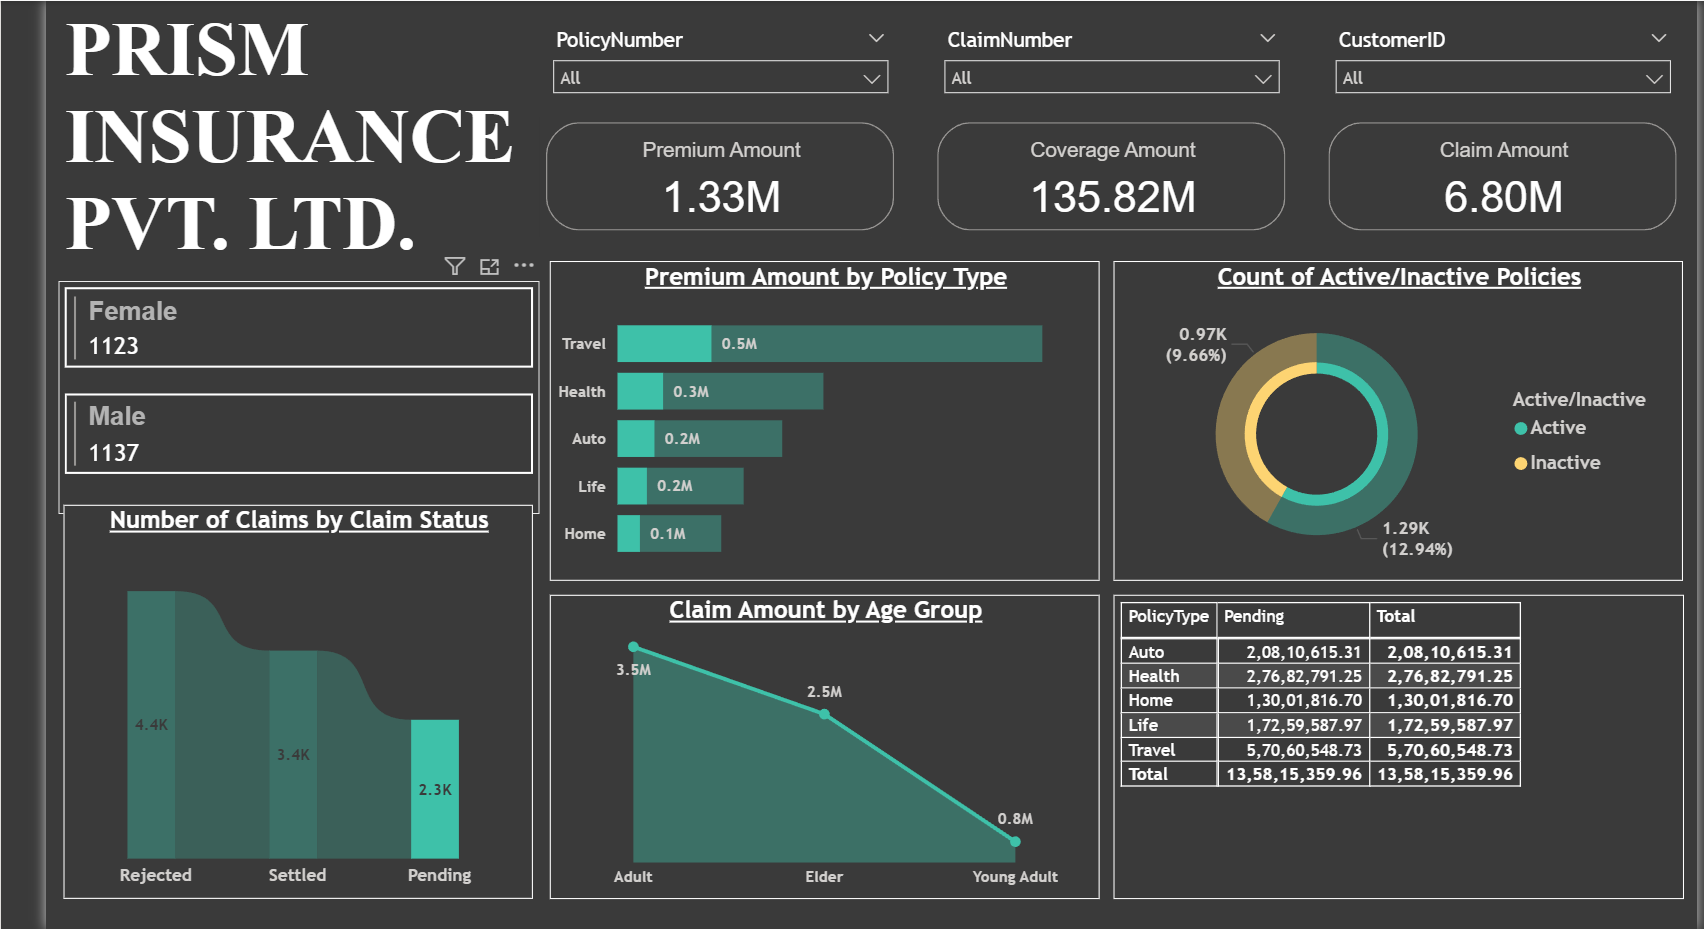

Layout of this report page (visuals, bound fields, positions):
{"tool":"powerbi","page":{"name":"Page 1","canvas":[1280,720],"ordinal":0},"visuals":[{"type":"slicer","fields":{"Values":["insurancedb insurancedata.ï»¿PolicyNumber"]},"box":[382.6,15.1,280.2,74.4],"z":0},{"type":"slicer","fields":{"Values":["insurancedb insurancedata.ClaimNumber"]},"box":[686,15.1,280.2,74.4],"z":1000},{"type":"slicer","fields":{"Values":["insurancedb insurancedata.CustomerID"]},"box":[989.5,15.1,280.2,74.4],"z":2000},{"type":"textbox","box":[9.3,0,373.3,217.4],"z":3000},{"type":"cardVisual","fields":{"Data":["Sum(insurancedb insurancedata.PremiumAmount)"]},"box":[382.6,89.5,280.2,94.2],"z":4000},{"type":"cardVisual","fields":{"Data":["Sum(insurancedb insurancedata.CoverageAmount)"]},"box":[686,89.5,280.2,94.2],"z":5000},{"type":"cardVisual","fields":{"Data":["Sum(insurancedb insurancedata.ClaimAmount)"]},"box":[989.5,89.5,280.2,94.2],"z":6000},{"type":"multiRowCard","fields":{"Values":["insurancedb insurancedata.Gender","CountNonNull(insurancedb insurancedata.Gender)"]},"box":[9.3,217.4,373.3,181.4],"z":7000},{"type":"ribbonChart","title":"Number of Claims by Claim Status ","fields":{"Category":["insurancedb insurancedata.ClaimStatus"],"Y":["CountNonNull(insurancedb insurancedata.ClaimStatus)"]},"box":[14,390.7,364,305.8],"z":8000},{"type":"barChart","title":"Premium Amount by Policy Type","fields":{"Category":["insurancedb insurancedata.PolicyType"],"Y":["Sum(insurancedb insurancedata.PremiumAmount)"]},"box":[390.7,201.2,426.7,247.7],"z":9000},{"type":"lineChart","title":"Claim Amount by Age Group","fields":{"Category":["insurancedb insurancedata.Age Group"],"Y":["Sum(insurancedb insurancedata.ClaimAmount)"]},"box":[390.7,460.5,426.7,236],"z":10000},{"type":"donutChart","title":"Count of Active/Inactive Policies","fields":{"Category":["insurancedb insurancedata.Active/Inactive"],"Y":["CountNonNull(insurancedb insurancedata.Active/Inactive)"]},"box":[827.9,201.2,441.9,247.7],"z":11000},{"type":"pivotTable","fields":{"Values":["Sum(insurancedb insurancedata.CoverageAmount)"],"Rows":["insurancedb insurancedata.PolicyType"],"Columns":["insurancedb insurancedata.ClaimStatus"]},"box":[828,460,442,236],"z":12000}]}

Visuals, with their boxes on the page's 1280x720 design canvas (x1, y1, x2, y2). These are canvas units, not pixel positions in the 1704x929 screenshot, which may show the page scaled, cropped or inside an application window:
slicer - insurancedb insurancedata.ï»¿PolicyNumber: l=383, t=15, r=663, b=90
slicer - insurancedb insurancedata.ClaimNumber: l=686, t=15, r=966, b=90
slicer - insurancedb insurancedata.CustomerID: l=990, t=15, r=1270, b=90
textbox: l=9, t=0, r=383, b=217
cardVisual - Sum(insurancedb insurancedata.PremiumAmount): l=383, t=90, r=663, b=184
cardVisual - Sum(insurancedb insurancedata.CoverageAmount): l=686, t=90, r=966, b=184
cardVisual - Sum(insurancedb insurancedata.ClaimAmount): l=990, t=90, r=1270, b=184
multiRowCard - insurancedb insurancedata.Gender x CountNonNull(insurancedb insurancedata.Gender): l=9, t=217, r=383, b=399
"Number of Claims by Claim Status " ribbonChart: l=14, t=391, r=378, b=696
"Premium Amount by Policy Type" barChart: l=391, t=201, r=817, b=449
"Claim Amount by Age Group" lineChart: l=391, t=460, r=817, b=696
"Count of Active/Inactive Policies" donutChart: l=828, t=201, r=1270, b=449
pivotTable - Sum(insurancedb insurancedata.CoverageAmount) x insurancedb insurancedata.PolicyType: l=828, t=460, r=1270, b=696
